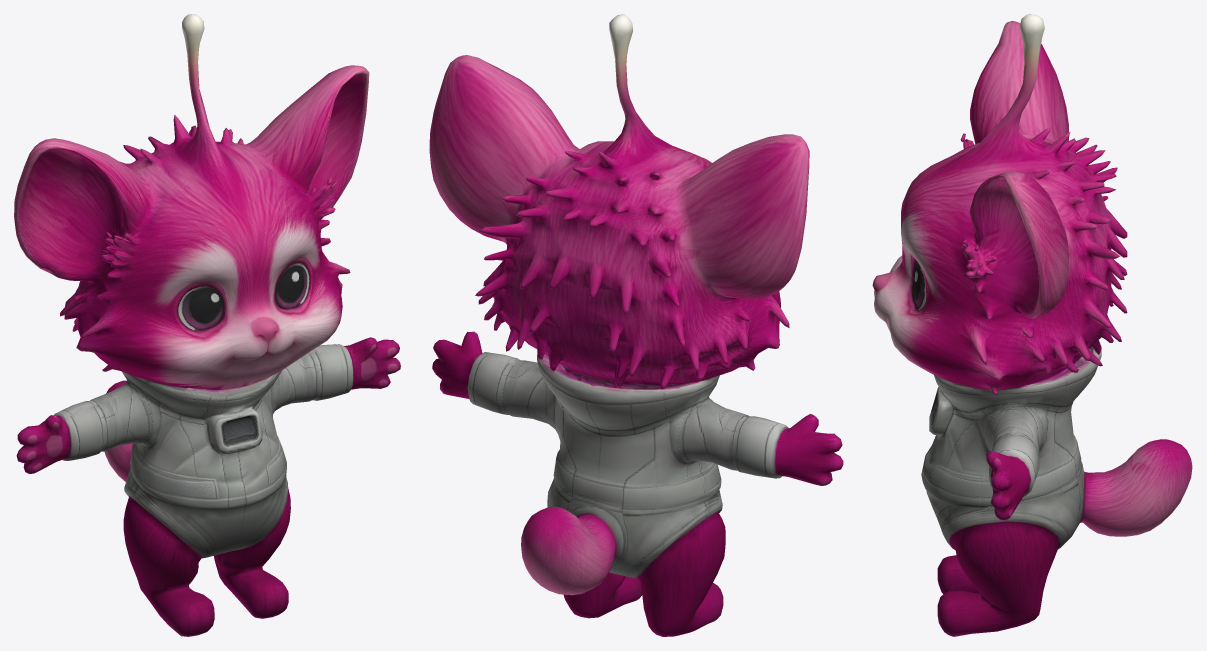
File: nova.glb
The picture shows the model from 3 angles, left to right: view 1: azimuth 30°, elevation 25°; view 2: azimuth 150°, elevation 25°; view 3: azimuth 270°, elevation 25°; orthographic projection. The views are drawn at different scales.
Bounding box in the file's own units: 1.31 × 1.91 × 0.9237.
Materials: 1 (1 with a texture image).
